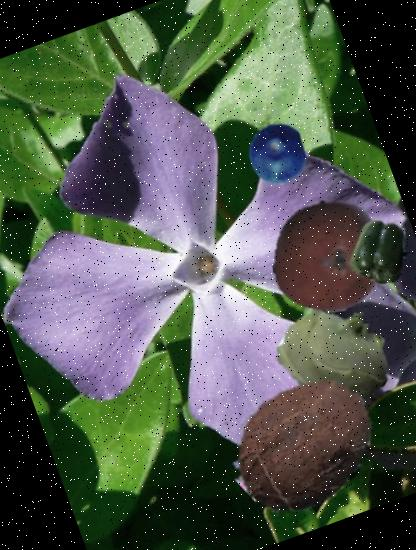Cocos: (209, 350, 400, 540)
Huckleberry: (238, 114, 316, 193)
Kohlrabi: (266, 281, 411, 426)
Pepper: (337, 209, 416, 294)
Pomegranate: (256, 184, 400, 328)
